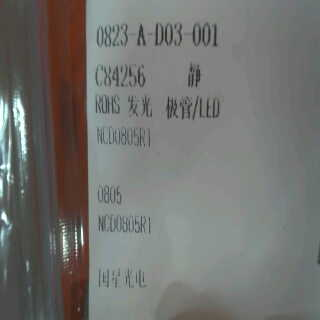LED: (121, 90, 223, 124)
